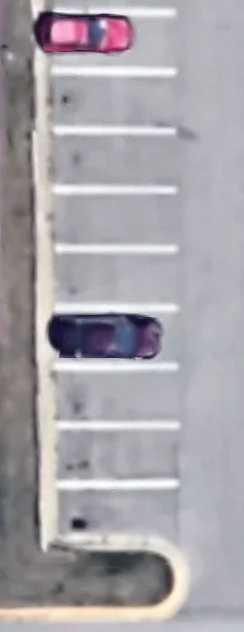Occupied: (43, 11, 177, 72), (44, 309, 177, 367)
Vacant: (44, 426, 178, 486), (44, 485, 178, 545), (44, 72, 177, 132), (44, 249, 177, 309), (43, 368, 178, 426), (44, 132, 176, 191), (44, 191, 177, 249)
